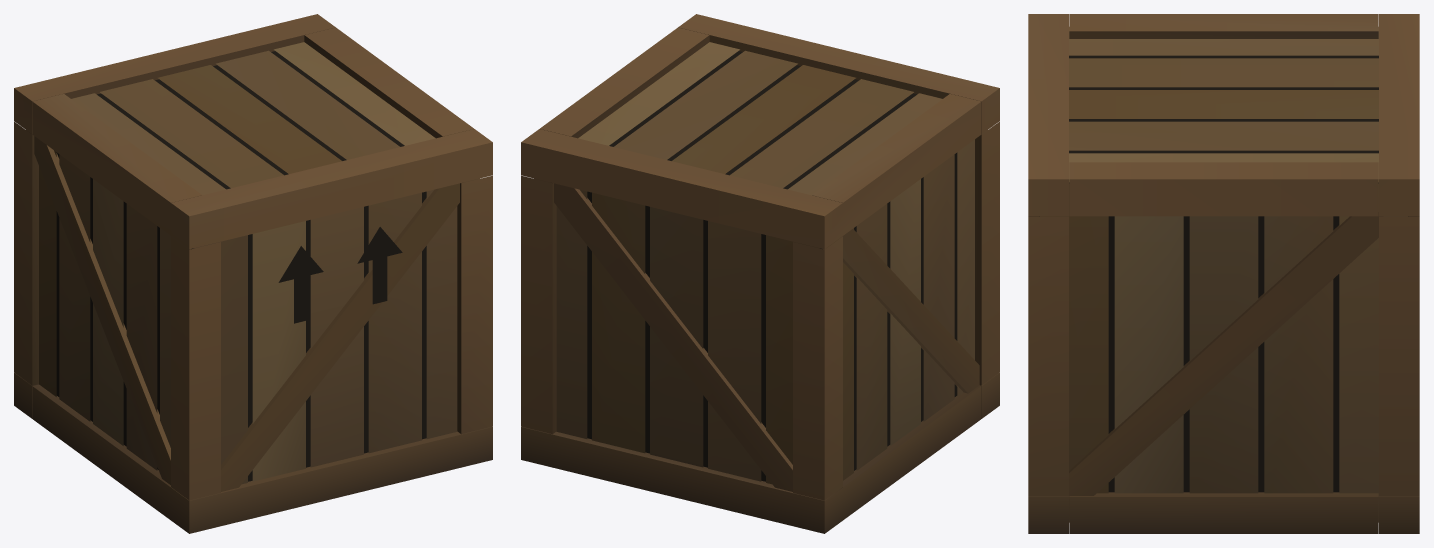
Rendered from crate.glb.
3 views of the same model, side by side, from view 1: azimuth 30°, elevation 25°; view 2: azimuth 150°, elevation 25°; view 3: azimuth 270°, elevation 25° (orthographic). The views are drawn at different scales.
Visible parts, largest first — view 1: Crate; view 2: Crate; view 3: Crate.
Part boxes in pixels (x1,y1,x2,y2): Crate: (14,14,492,533); Crate: (521,14,999,533); Crate: (1028,14,1419,533).
Bounding box in the file's own units: 1 × 1 × 1.
